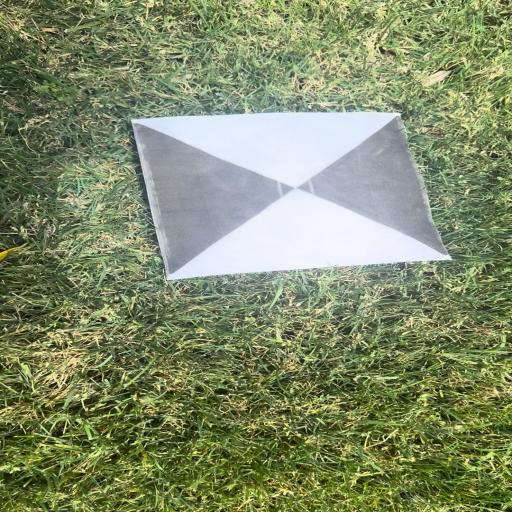target: (135, 111, 450, 281)
